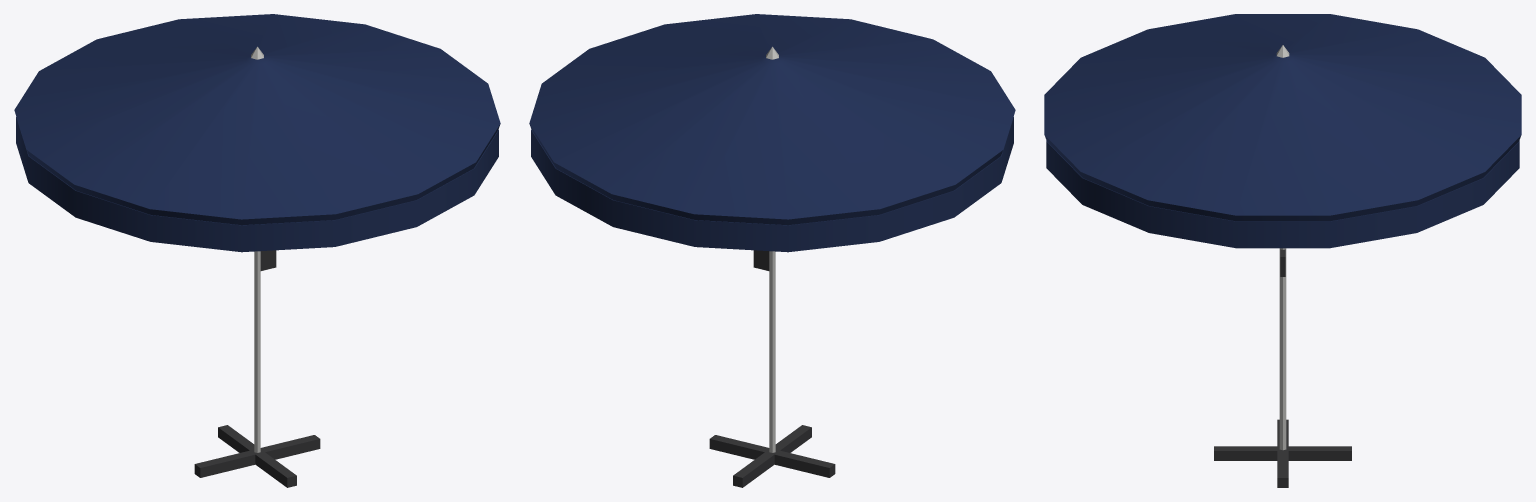
Rendered from SM_Prop_cafe_parasol_3.glb.
3 views of the same model, side by side, from view 1: azimuth 30°, elevation 25°; view 2: azimuth 150°, elevation 25°; view 3: azimuth 270°, elevation 25° (orthographic).
Visible parts, largest first — view 1: SM_Prop_cafe_parasol_3; view 2: SM_Prop_cafe_parasol_3; view 3: SM_Prop_cafe_parasol_3.
Boxes of the visible parts, <box> form: SM_Prop_cafe_parasol_3: <box>14,14,500,487</box>; SM_Prop_cafe_parasol_3: <box>529,14,1015,487</box>; SM_Prop_cafe_parasol_3: <box>1044,14,1521,487</box>.
Size of the model in its own units: 2.59 by 2.48 by 2.59.
